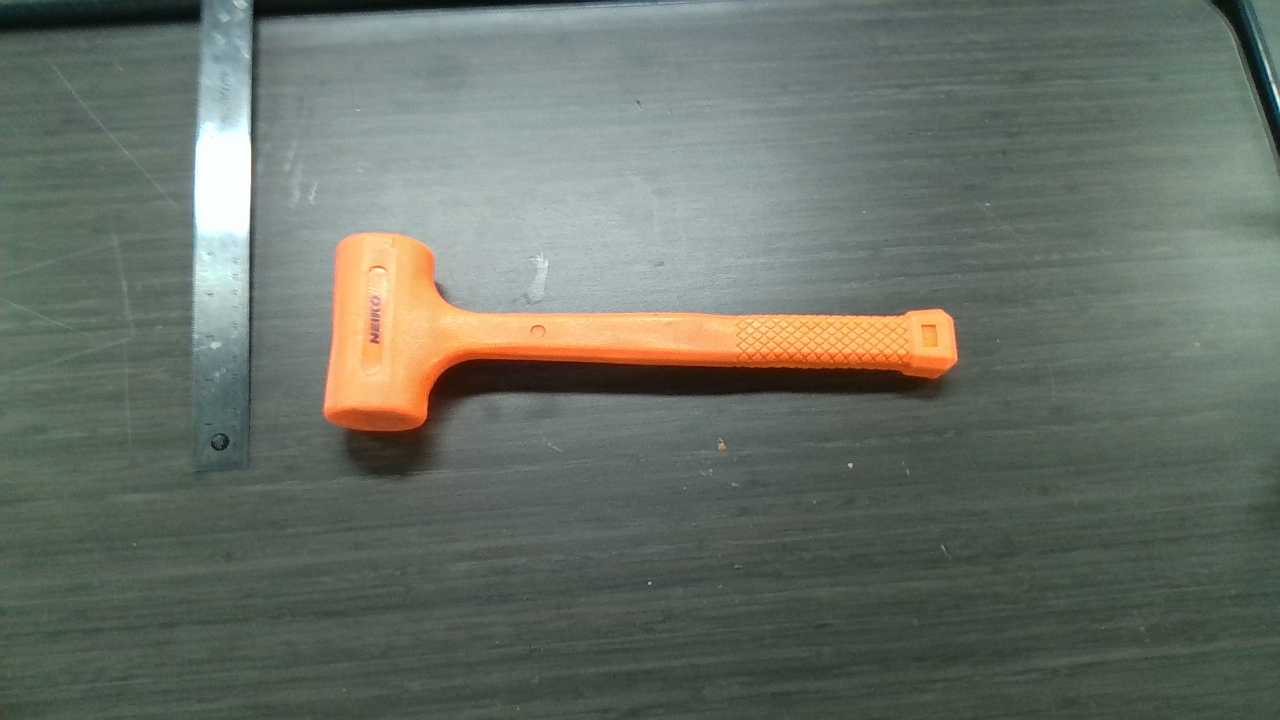Orange Hammer: (331, 235, 959, 431)
